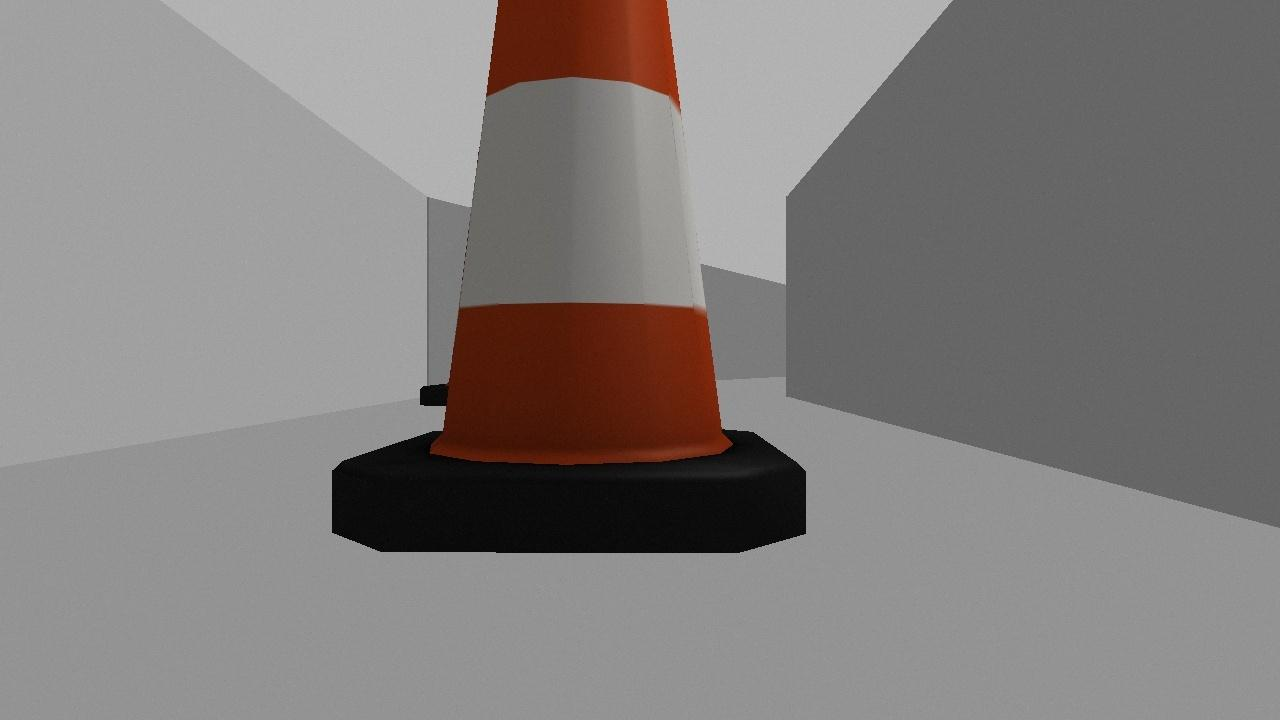cone_barrel: (307, 0, 832, 570)
